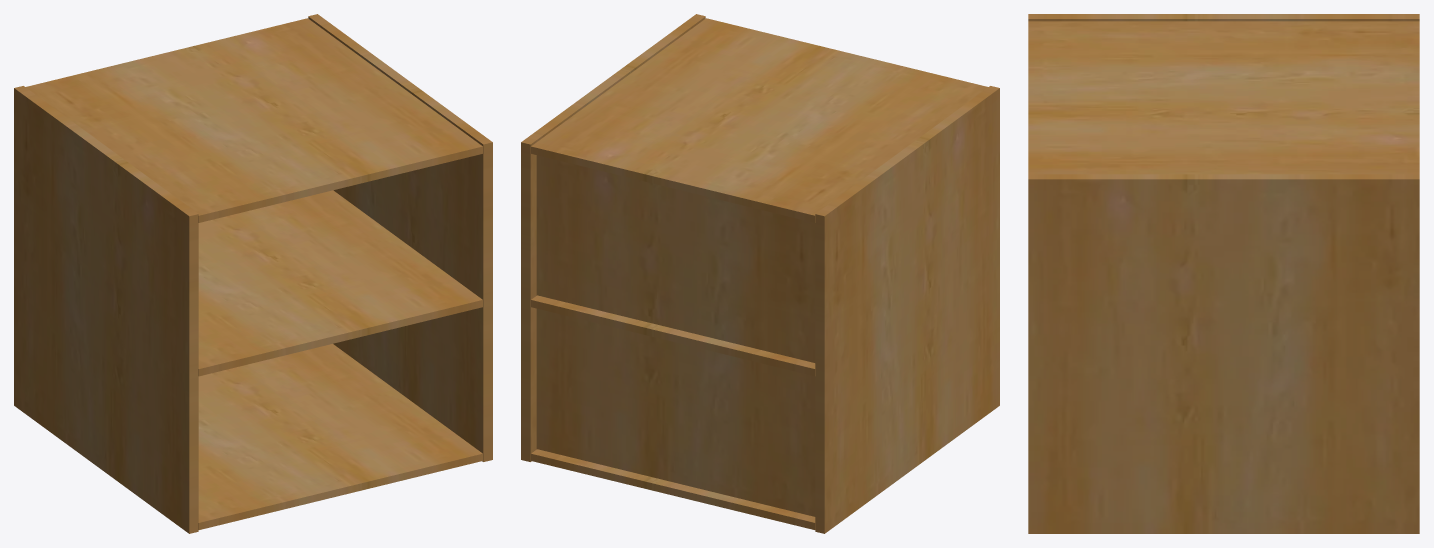
File: sh-contrib-meuble-chevet.glb
3 views of the same model, side by side, from view 1: azimuth 30°, elevation 25°; view 2: azimuth 150°, elevation 25°; view 3: azimuth 270°, elevation 25° (orthographic). The views are drawn at different scales.
Visible parts, largest first — view 1: Cube_15_1; view 2: Cube_15_1; view 3: Cube_15_1.
Part boxes in pixels (bbox=[...]): Cube_15_1: bbox=[14, 14, 492, 533]; Cube_15_1: bbox=[521, 14, 999, 533]; Cube_15_1: bbox=[1028, 14, 1419, 533].
Size of the model in its own units: 1 by 1 by 1.
Materials: 1 (1 with a texture image).
